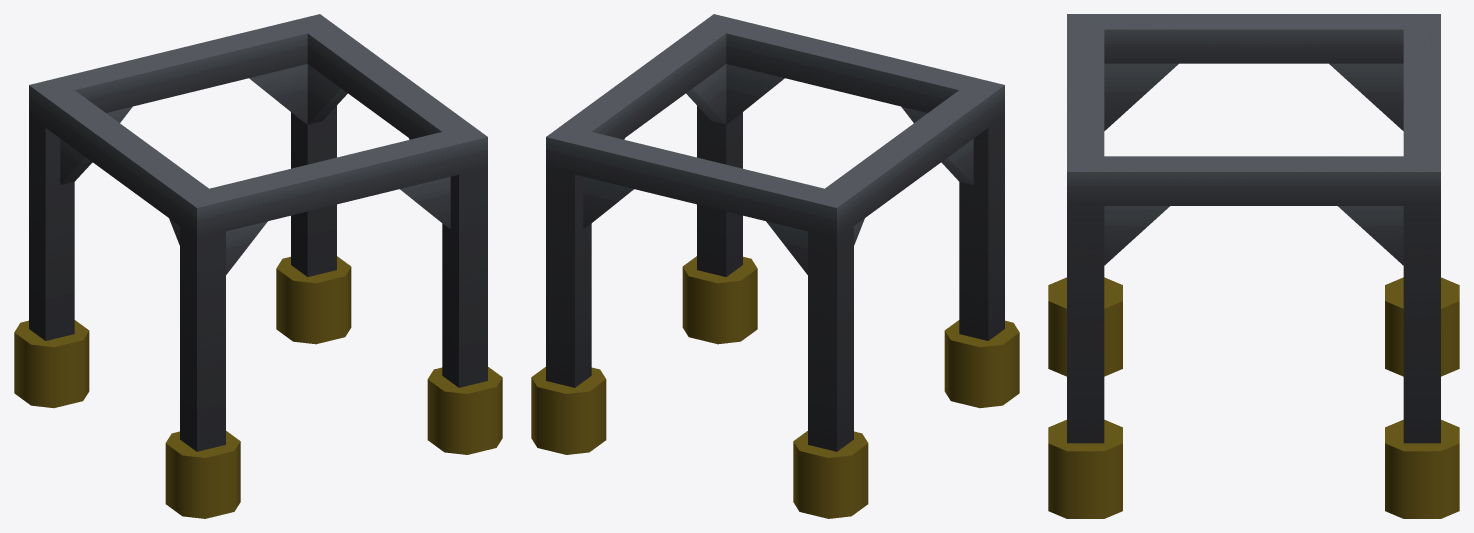
Rendered from s_structure_barrier.glb.
3 renders of one model, left to right at view 1: azimuth 30°, elevation 25°; view 2: azimuth 150°, elevation 25°; view 3: azimuth 270°, elevation 25°, orthographic. The views are drawn at different scales.
Visible parts, largest first — view 1: Group (×14); view 2: Group (×14); view 3: Group (×11).
Boxes of the visible parts, bbox=[...] form: Group (×14): bbox=[14, 14, 502, 518]; Group (×14): bbox=[531, 14, 1019, 518]; Group (×11): bbox=[1048, 14, 1459, 518].
Size of the model in its own units: 1.1 by 1 by 1.1.
1 material, 1 textured.
